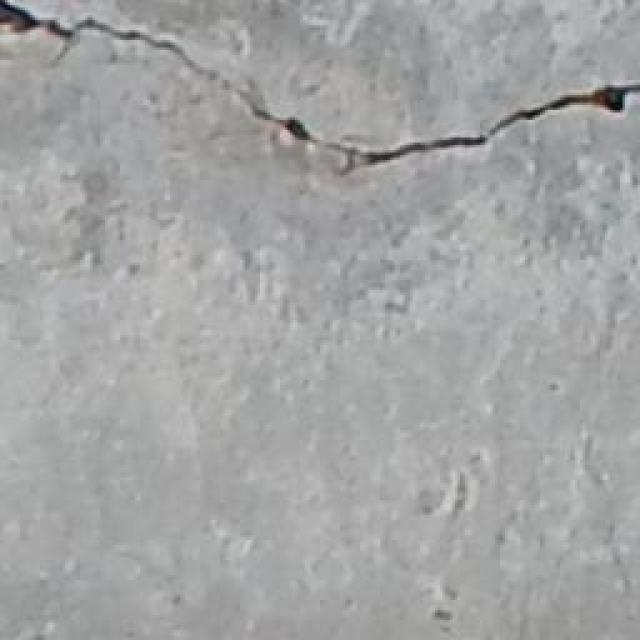concrete-crack: (0, 0, 640, 164)
